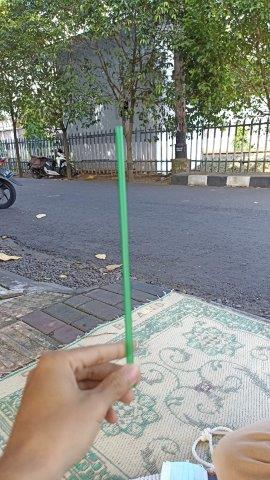sedotan: (116, 125, 134, 384)
